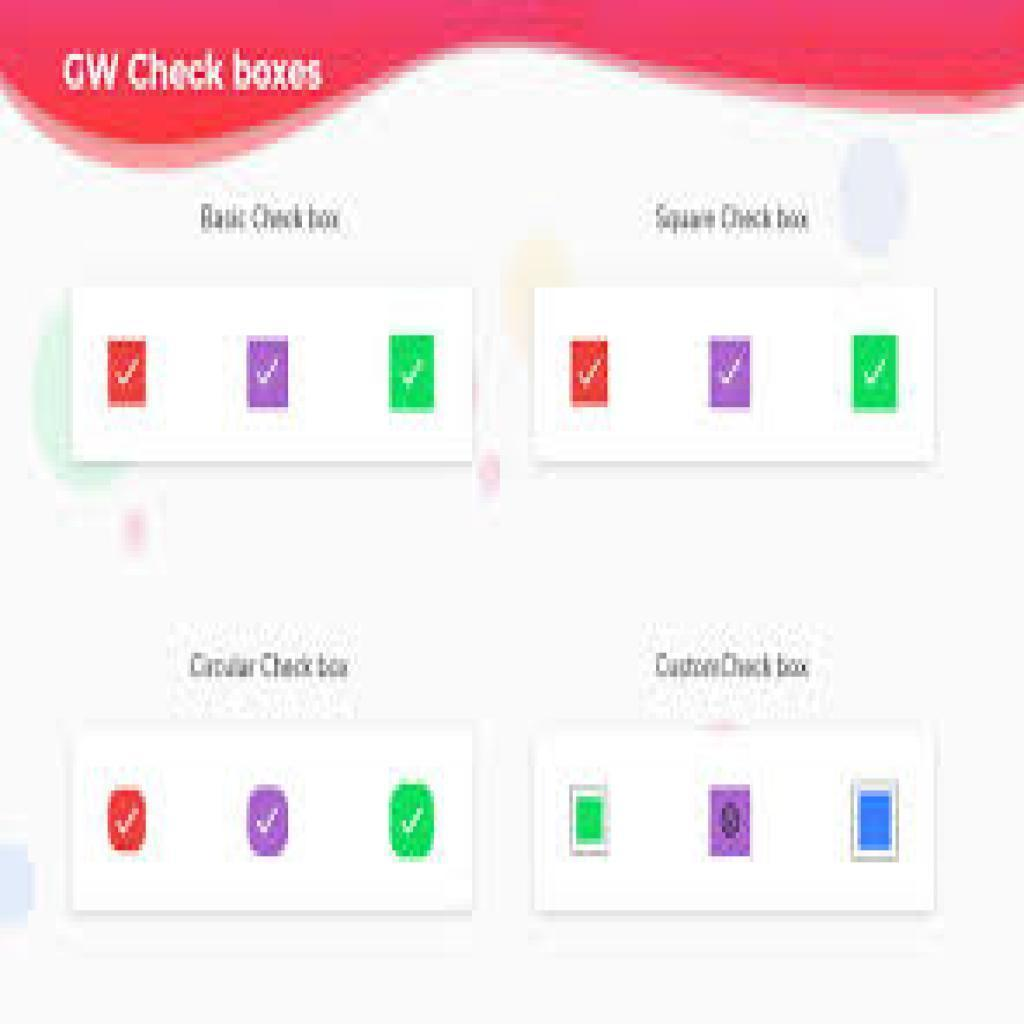checkbox: (387, 781, 437, 858), (242, 783, 290, 859), (103, 783, 151, 858), (852, 335, 898, 411), (390, 336, 435, 413), (103, 337, 148, 404), (246, 337, 288, 407), (708, 787, 750, 857), (710, 337, 748, 411), (570, 788, 608, 855), (572, 341, 610, 406), (856, 788, 895, 851)
